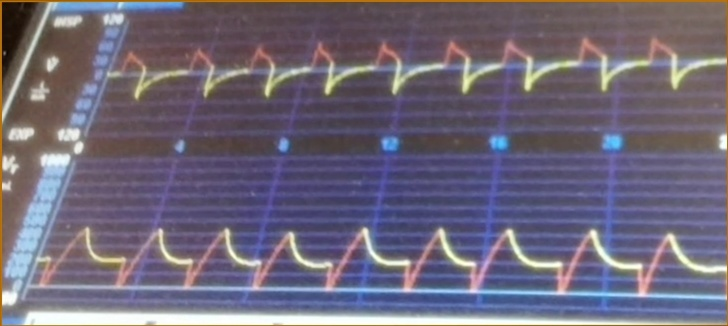Flow: (119, 26, 728, 126)
Leakage Volume: (55, 201, 727, 310)
